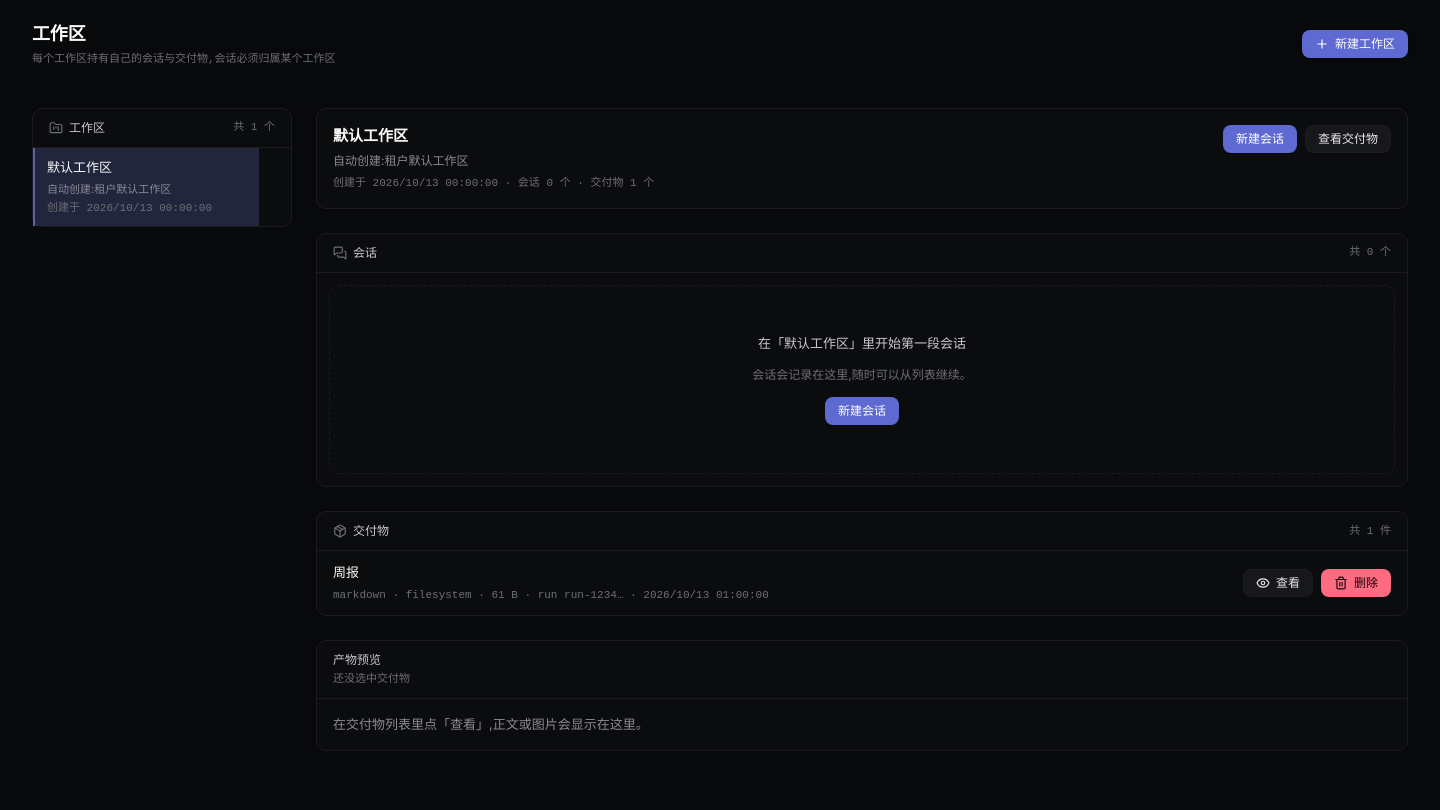
it: WorkspacePage › 点「查看」拉取正文并展示
The width and height of the screenshot is (1440, 810).
Expected: the text "周报" is shown, [333,564,359,580]
What coordinates should you click on to do the following:
click the button "查看"
I would click on:
 (1278, 583)
Its box is [1243,569,1313,597].
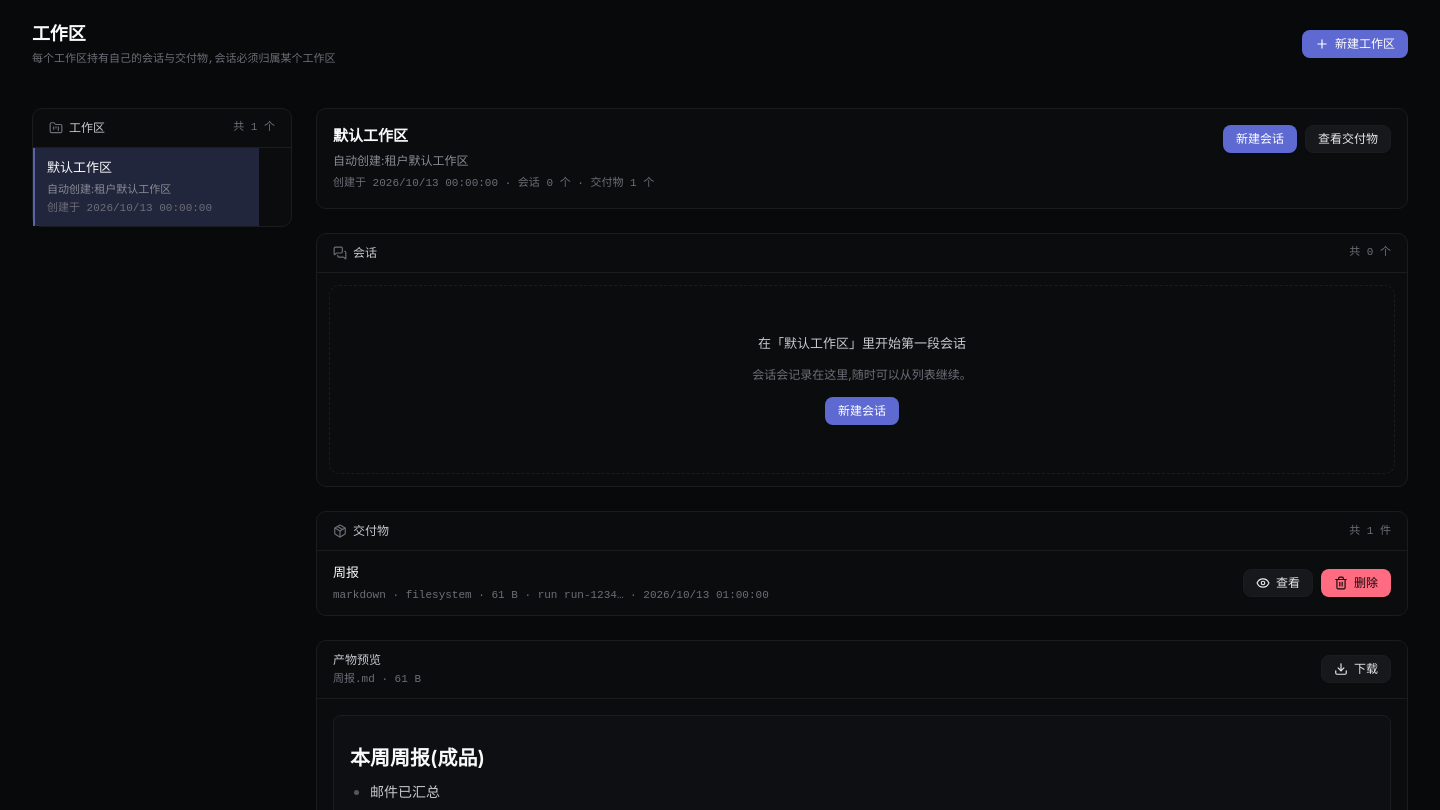
Expected: the heading "本周周报(成品)" is shown, [350,746,485,770]
Expected: the list item "邮件已汇总" is shown, [370,782,440,800]
